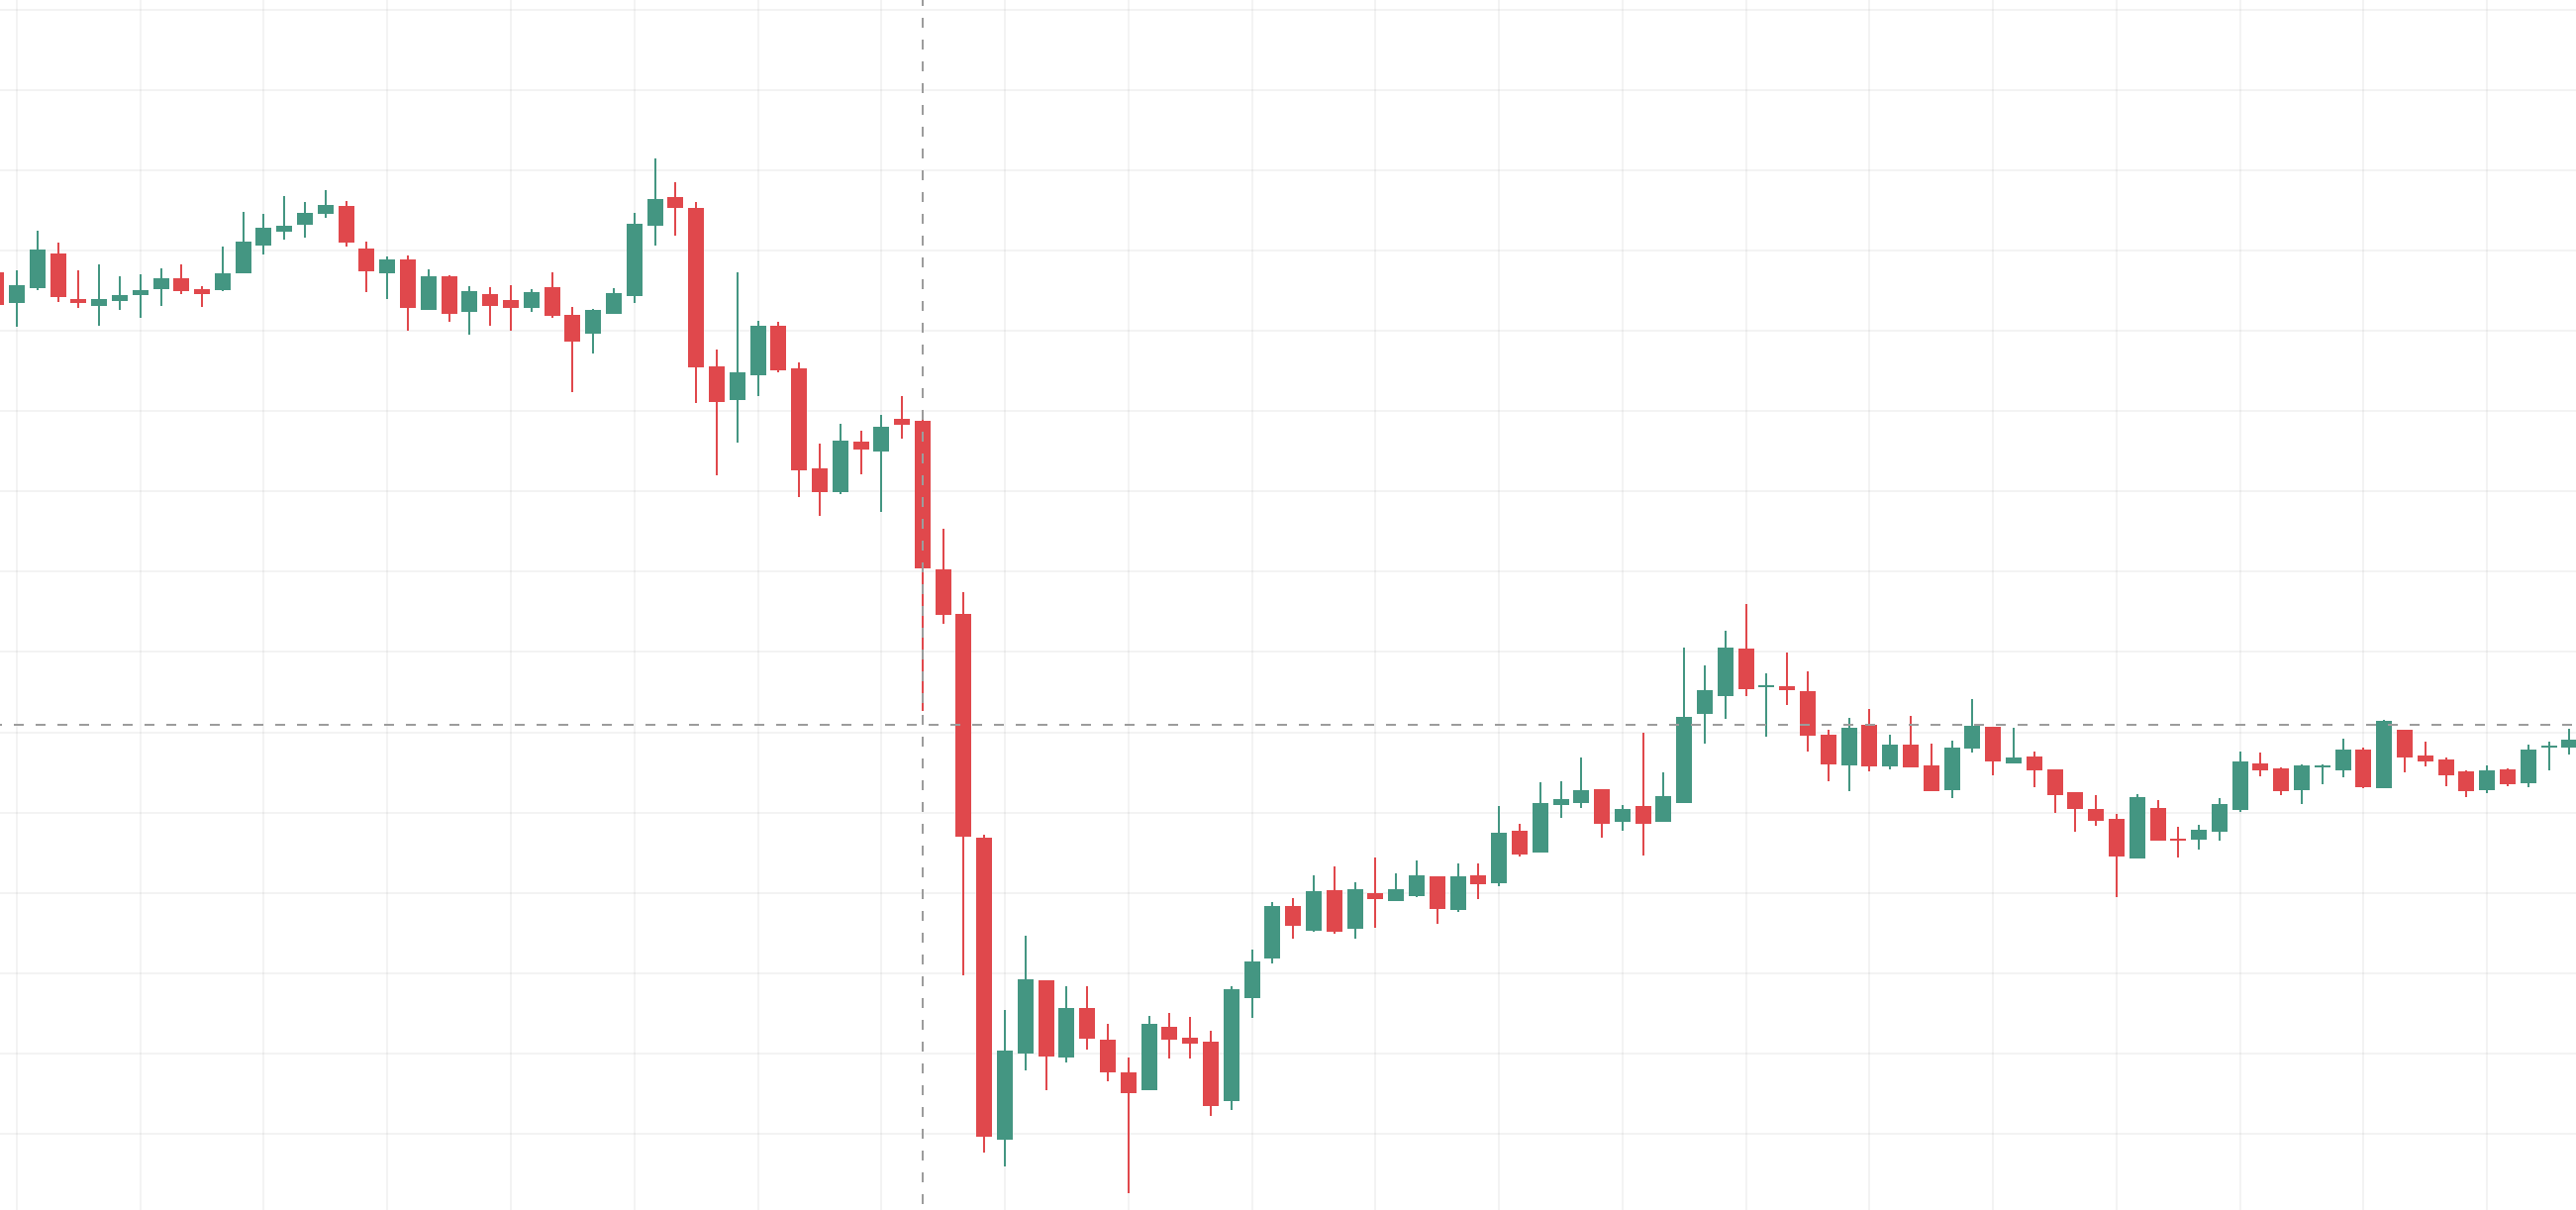V-turn: (851, 340, 1280, 1207)
